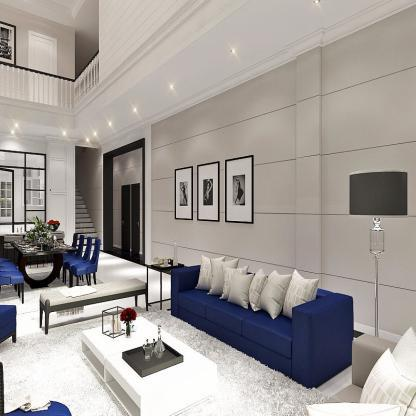lampu: (347, 170, 403, 338)
meja: (73, 314, 219, 415)
sova: (168, 256, 354, 381)
